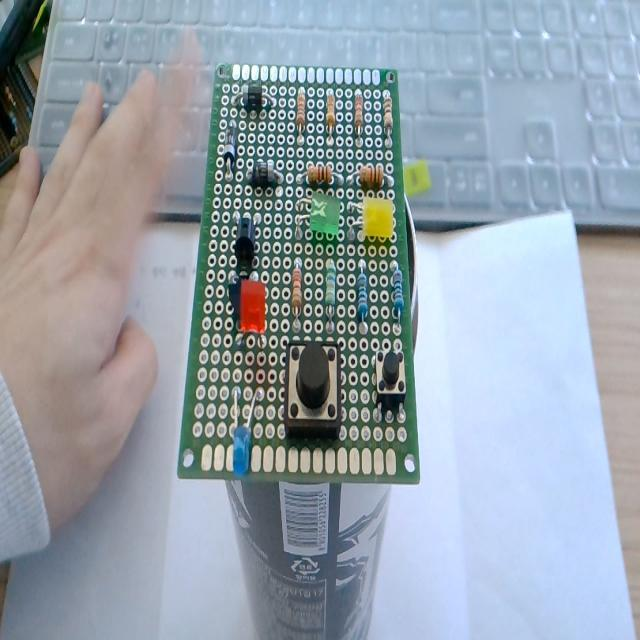diode: (232, 76, 278, 112), (237, 152, 281, 184), (220, 114, 240, 170)
led: (226, 379, 262, 474), (239, 274, 270, 356), (346, 198, 394, 249), (294, 193, 342, 243)
resistor: (352, 258, 372, 338), (346, 162, 396, 188), (322, 256, 340, 327), (387, 260, 405, 330), (290, 252, 306, 328), (296, 162, 341, 188), (323, 87, 337, 152), (294, 81, 306, 148), (351, 84, 364, 140), (380, 90, 392, 133)
switch: (280, 337, 344, 448), (371, 340, 411, 426)
transistor: (224, 203, 266, 263)
